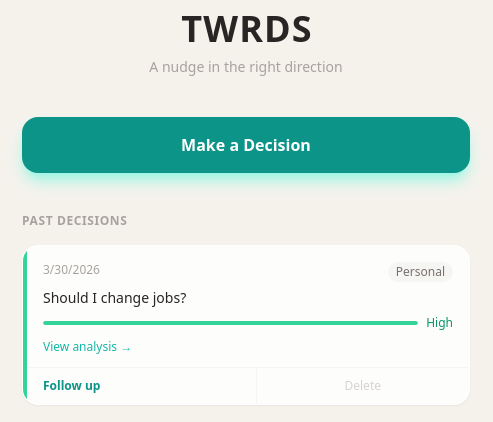
HomeScreen › confirming delete removes the decision
The image size is (493, 422).
Click the button "Delete". click: (363, 386)
box: [256,368,469,404]
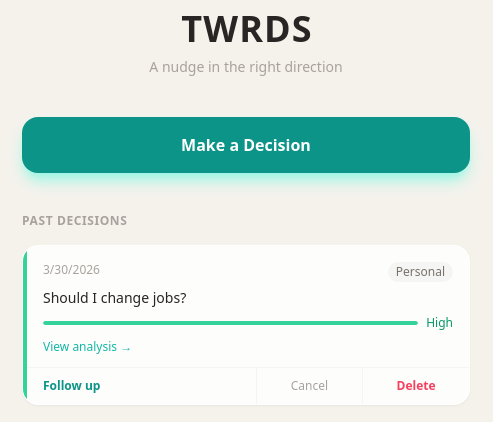
Click the button "Delete". click: (416, 386)
box: [363,368,469,404]
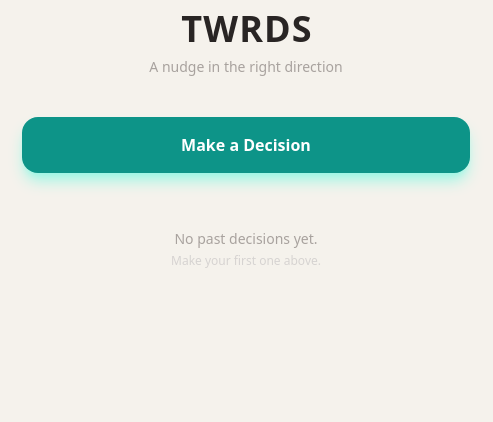
Check: the button "Should I change jobs?" is gone
